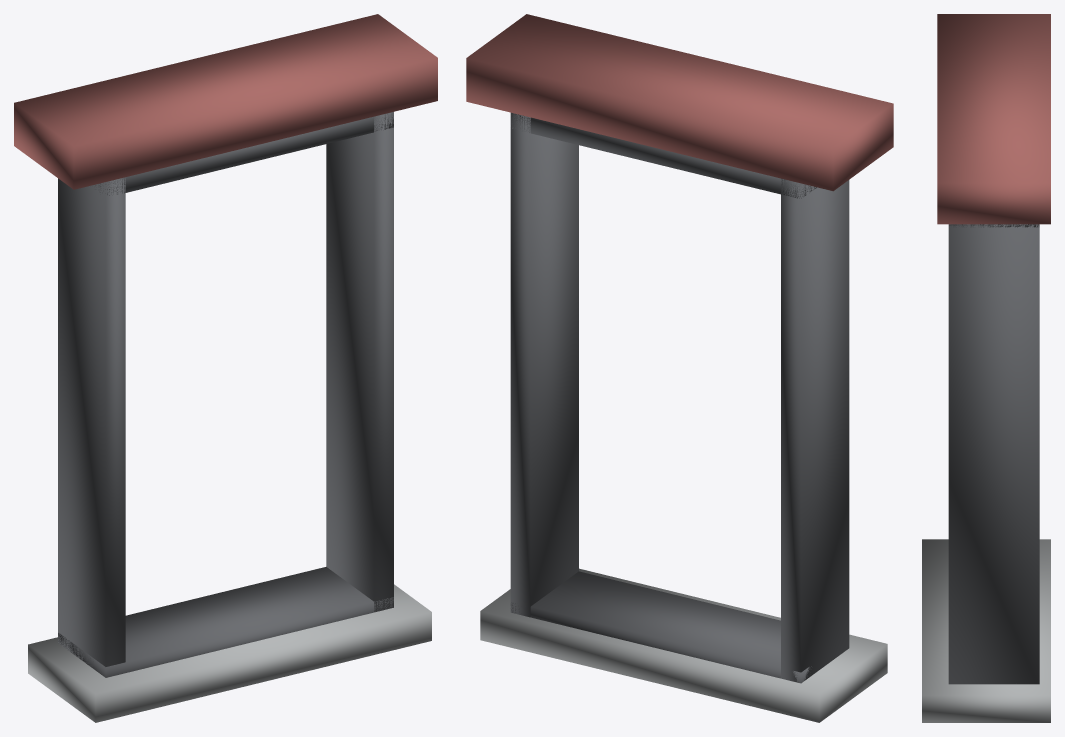
The model's file is egress_window_brick_w72_h130_s72_d24.glb.
3 views of the same model, side by side, from view 1: azimuth 30°, elevation 25°; view 2: azimuth 150°, elevation 25°; view 3: azimuth 270°, elevation 25° (orthographic). The views are drawn at different scales.
Visible parts, largest first — view 1: world; view 2: world; view 3: world.
Part boxes in pixels (box(x1,y1,x2,y2)): world: box(14, 14, 437, 722); world: box(466, 14, 893, 722); world: box(922, 14, 1050, 722).
Size of the model in its own units: 1.06 by 1.59 by 0.34.
